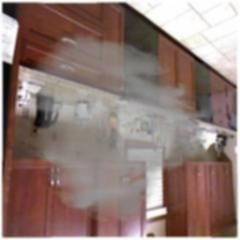smoke: (55, 68, 182, 187)
